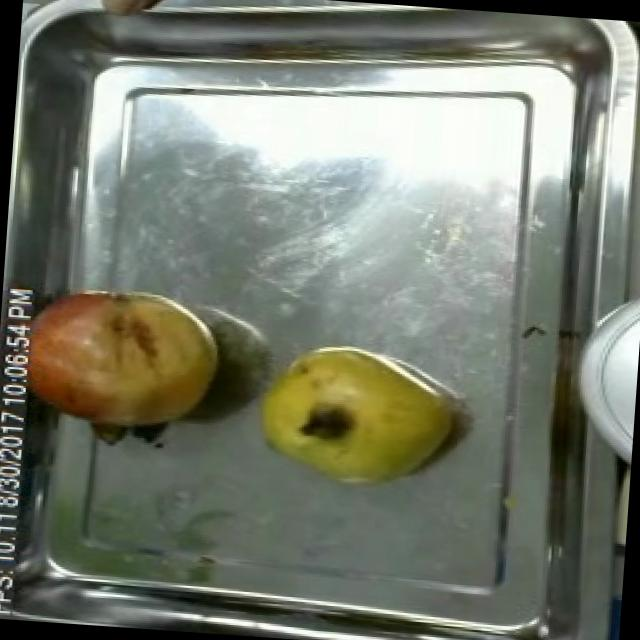fruit: (0, 276, 227, 447), (243, 331, 468, 502), (85, 0, 189, 24)
